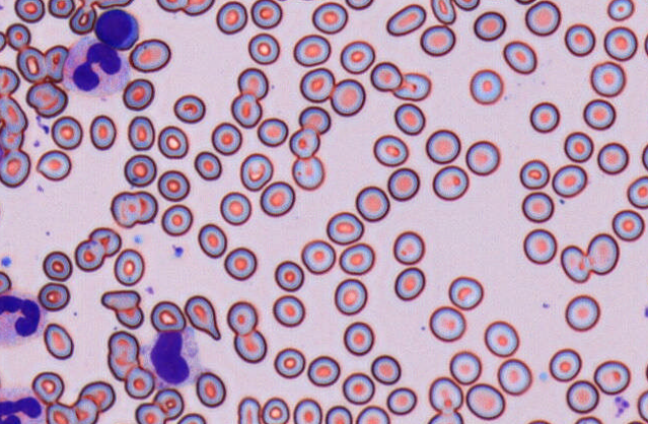GRAN: (62, 36, 129, 100), (0, 288, 48, 351), (1, 381, 45, 424)
LYM: (94, 7, 143, 51)
MONO: (140, 324, 204, 387)
RBC: (110, 189, 158, 228), (106, 330, 140, 380), (25, 81, 68, 117), (465, 383, 505, 420), (128, 38, 171, 72), (586, 232, 619, 275), (428, 305, 465, 342), (385, 3, 426, 36), (524, 0, 561, 36), (259, 180, 295, 217), (496, 358, 532, 395), (564, 294, 600, 331), (483, 320, 519, 357), (593, 359, 630, 395), (590, 60, 626, 97), (330, 78, 365, 116), (239, 152, 273, 191), (355, 185, 390, 222), (432, 165, 469, 200), (326, 211, 364, 245), (428, 376, 463, 412), (299, 67, 335, 102), (522, 228, 557, 264), (551, 163, 587, 198), (425, 128, 460, 164), (339, 39, 375, 74), (465, 139, 500, 175), (469, 68, 503, 105), (293, 33, 331, 66), (448, 275, 483, 310), (311, 1, 348, 34), (334, 278, 367, 315), (77, 380, 115, 412), (301, 239, 335, 274), (502, 40, 537, 74), (603, 26, 637, 61), (150, 300, 186, 333), (338, 242, 374, 275), (16, 45, 47, 83), (113, 248, 144, 286), (0, 148, 30, 187), (392, 71, 431, 101), (233, 329, 267, 363), (565, 379, 599, 413), (223, 246, 257, 280), (291, 155, 324, 190), (230, 92, 262, 128), (419, 24, 455, 56), (43, 322, 74, 359), (31, 371, 64, 405), (123, 153, 156, 187), (387, 167, 420, 201), (548, 348, 581, 382), (392, 230, 425, 264), (611, 208, 645, 241), (36, 149, 71, 181), (373, 134, 408, 166), (195, 371, 226, 407), (272, 294, 305, 327), (449, 350, 481, 384), (215, 0, 247, 34), (219, 191, 251, 225), (582, 98, 616, 130), (226, 300, 257, 335), (394, 266, 425, 301), (152, 387, 184, 420), (342, 372, 375, 404), (157, 169, 190, 201), (122, 77, 154, 110), (393, 102, 425, 135), (597, 141, 629, 174), (124, 365, 155, 399), (157, 125, 188, 159), (211, 121, 242, 155), (51, 115, 82, 149), (343, 321, 374, 355), (197, 223, 227, 258), (161, 204, 193, 236), (247, 32, 279, 64), (307, 355, 340, 386), (237, 67, 268, 100), (473, 10, 506, 41), (521, 191, 554, 222), (564, 23, 595, 56), (0, 96, 27, 133), (529, 101, 560, 133), (273, 347, 305, 378), (88, 226, 121, 256), (369, 61, 402, 91), (127, 115, 155, 150), (89, 114, 116, 150), (289, 127, 320, 158), (74, 239, 104, 271), (298, 105, 331, 134), (37, 282, 70, 311), (563, 131, 593, 162), (370, 354, 401, 384), (42, 250, 72, 281), (257, 117, 288, 147), (274, 260, 304, 291), (519, 158, 549, 189), (250, 0, 282, 29), (173, 94, 205, 123), (386, 386, 417, 415), (193, 150, 222, 180), (68, 4, 96, 35), (260, 396, 289, 423), (293, 397, 322, 423), (5, 22, 31, 50), (14, 0, 45, 23), (626, 175, 647, 208), (72, 397, 98, 423), (236, 396, 261, 423), (45, 402, 77, 423), (134, 402, 165, 423), (0, 65, 20, 97), (355, 405, 390, 423), (430, 0, 456, 24), (0, 125, 23, 151), (606, 0, 634, 21), (47, 0, 75, 18), (324, 405, 352, 423), (182, 0, 214, 15), (427, 410, 463, 423), (156, 0, 187, 12), (95, 0, 133, 9), (637, 389, 647, 422), (176, 412, 206, 423), (453, 0, 480, 11), (345, 0, 373, 10), (0, 270, 11, 294), (573, 415, 603, 423), (641, 142, 648, 171), (524, 418, 552, 423), (0, 30, 6, 52), (643, 31, 648, 57), (514, 0, 536, 5), (625, 419, 646, 424), (0, 197, 3, 228), (644, 360, 648, 382), (293, 0, 322, 2)
Schistocyte: (183, 295, 223, 341), (560, 243, 592, 284), (42, 44, 70, 83), (102, 289, 141, 310)
